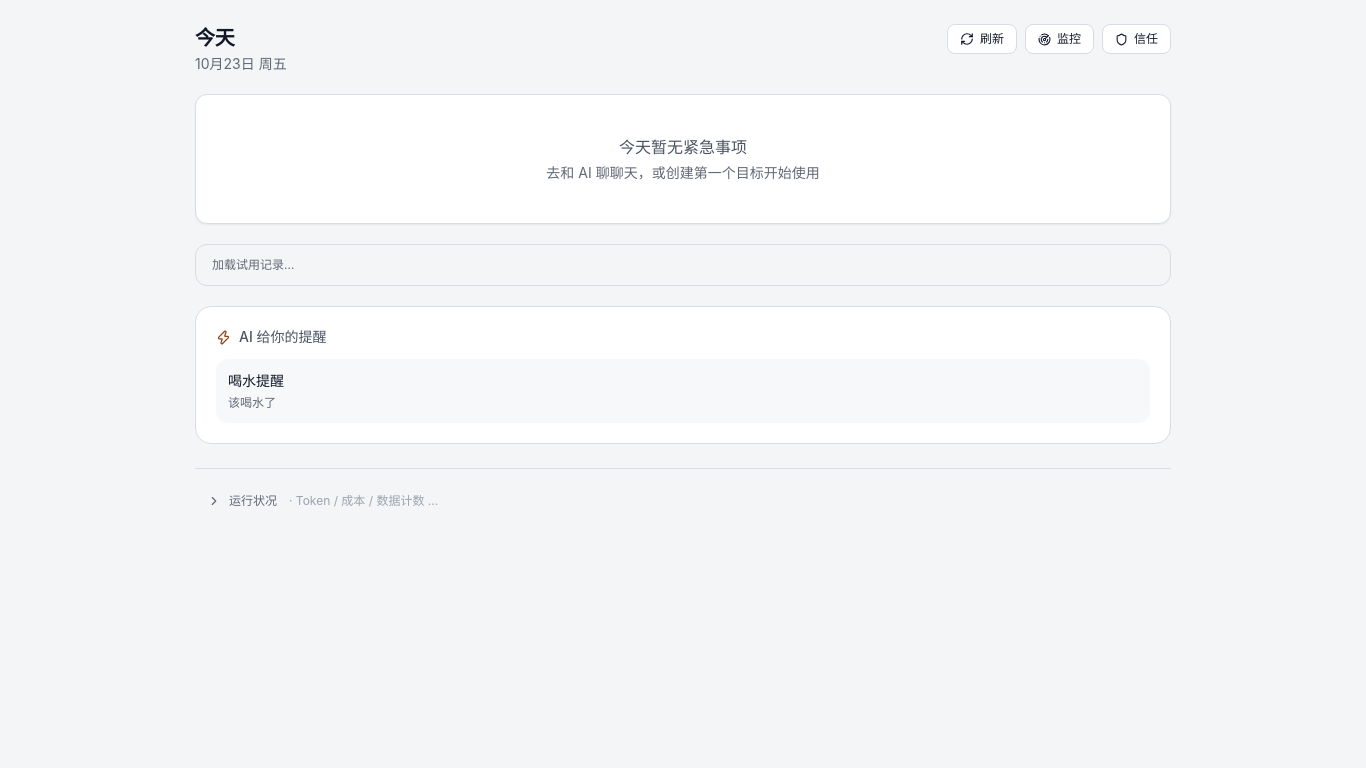
Scenario: DashboardPage › marks a reminder read, dims the row, and focuses the detail
This screenshot has width=1366, height=768.
Step 1. Click the button "喝水提醒 该喝水了" → (256, 380), box [216,359,1150,423]
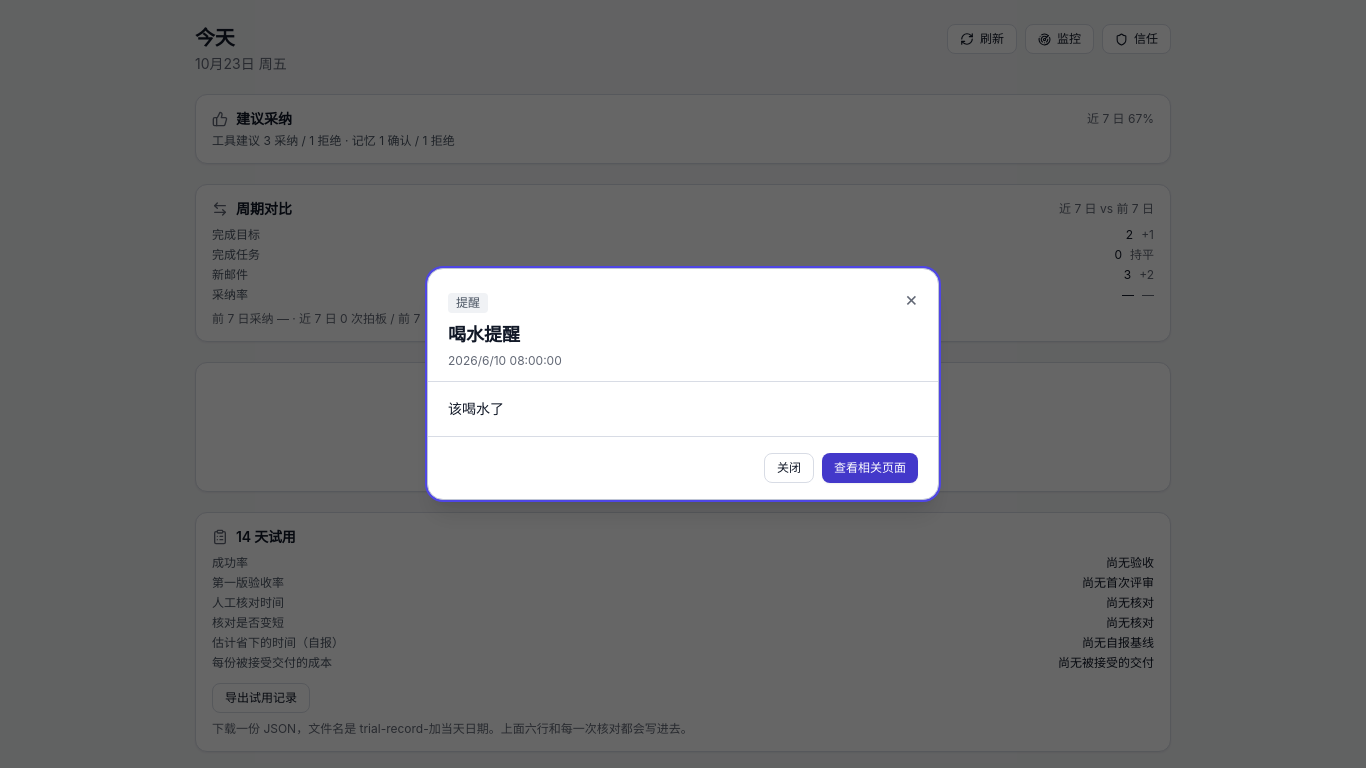
Expected: the text "提醒" is shown, [448,293,488,313]
